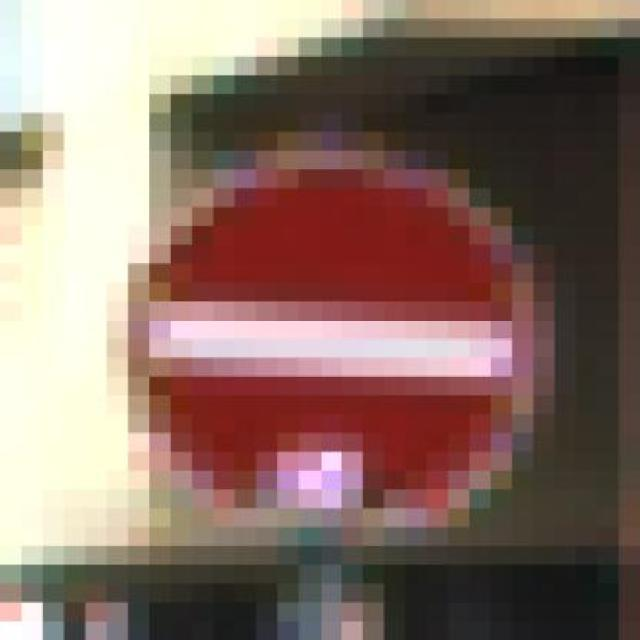B2: (141, 166, 523, 526)
